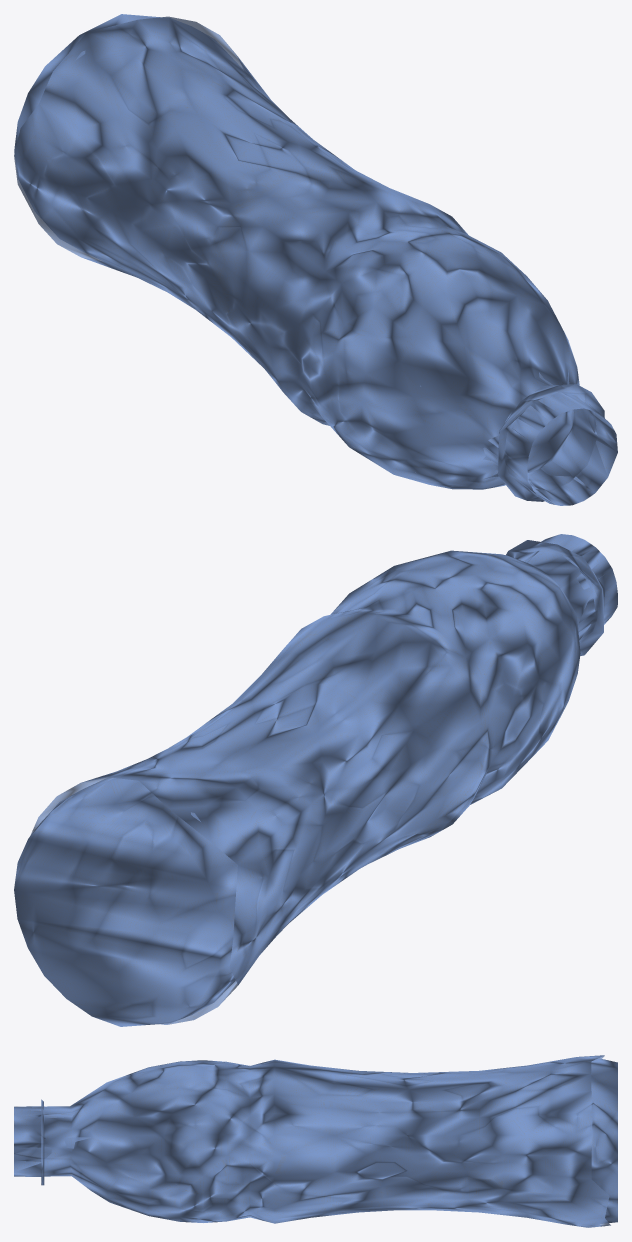
Rendered from model_align.obj.
The picture shows the model from 3 angles, top to bottom: view 1: azimuth 30°, elevation 25°; view 2: azimuth 150°, elevation 25°; view 3: azimuth 270°, elevation 25°; orthographic projection. The views are drawn at different scales.
Bounding box in the file's own units: 0.0443 × 0.0448 × 0.153.
